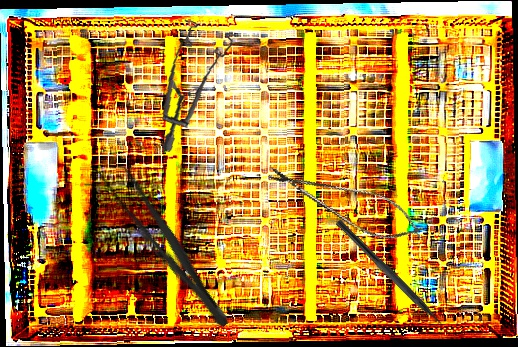Chopper: (327, 217, 455, 343)
Dressing Forceps: (93, 155, 240, 335)
Micro Scissor: (261, 154, 431, 253)
Speculum: (147, 13, 249, 153)
